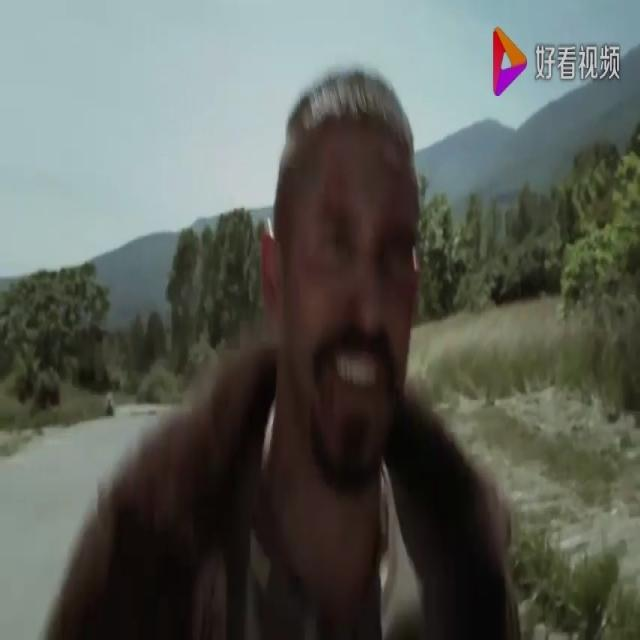non-fight: (43, 74, 523, 640)
